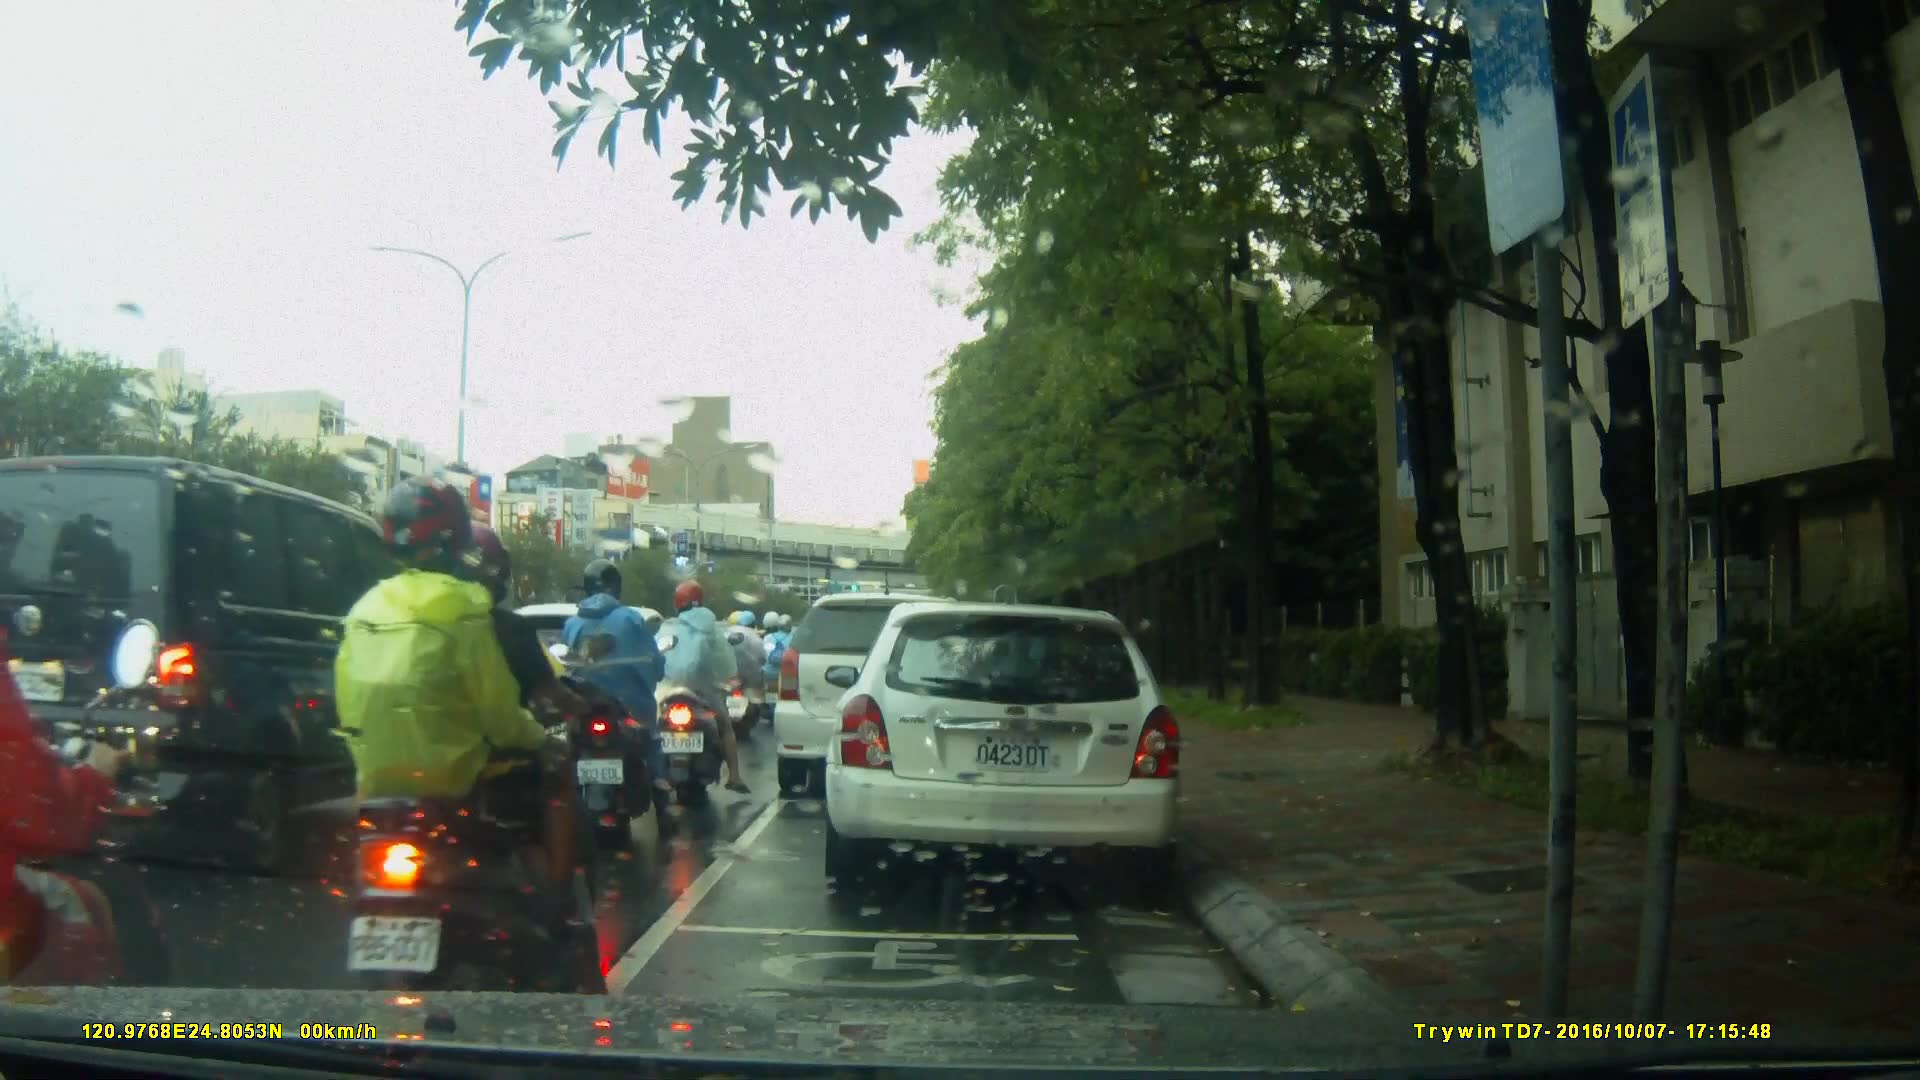rider: (315, 468, 619, 1033), (1, 525, 208, 1080), (407, 561, 579, 921), (552, 562, 673, 847), (645, 583, 747, 801), (711, 612, 768, 734)
vehicle: (9, 445, 437, 891), (822, 604, 1188, 883), (415, 595, 678, 787), (774, 595, 995, 802)
